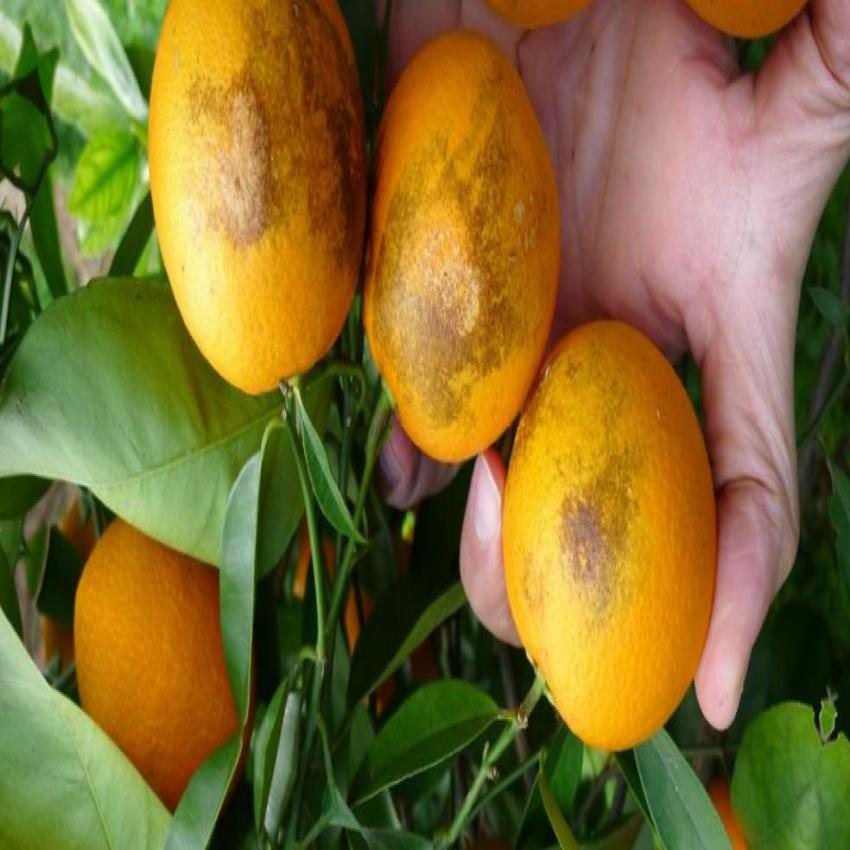Mal estado: (500, 308, 726, 782), (349, 45, 566, 477), (138, 0, 366, 401), (74, 485, 253, 803)
